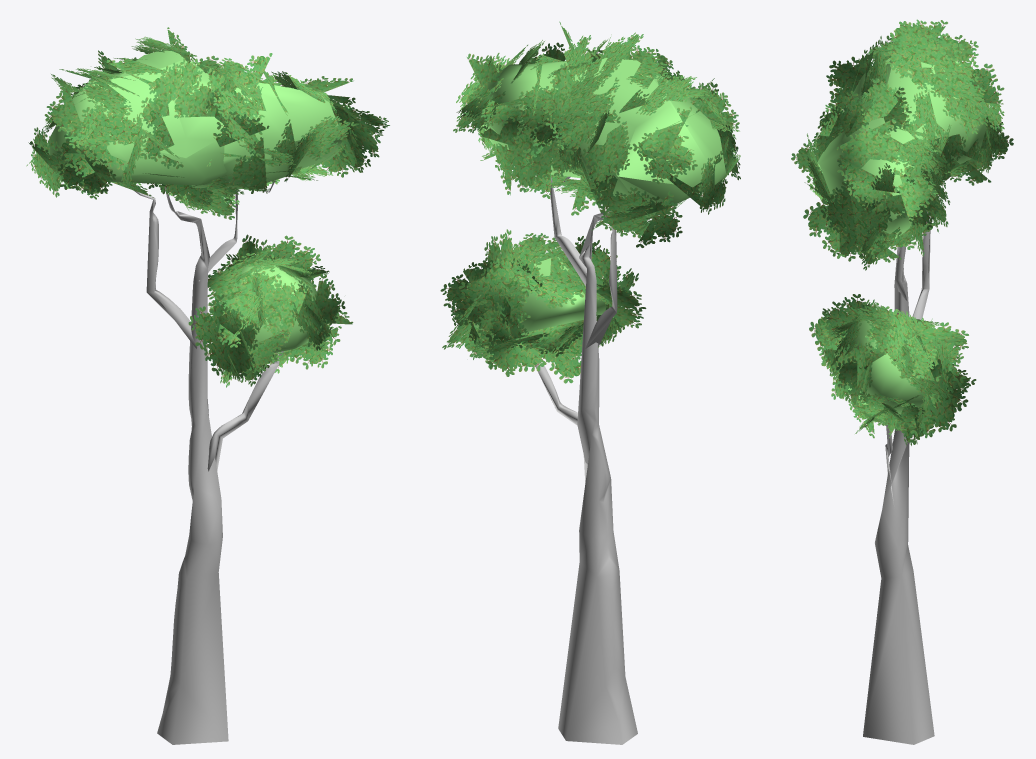
Rendered from SM_Navitree_A_low.fbx.
3 renders of one model, left to right at view 1: azimuth 30°, elevation 25°; view 2: azimuth 150°, elevation 25°; view 3: azimuth 270°, elevation 25°, orthographic. The views are drawn at different scales.
Parts seen in each view (by area): view 1: SM_Navitree_A_low; view 2: SM_Navitree_A_low; view 3: SM_Navitree_A_low.
Boxes of the visible parts, x1,y1,x2,y2 form: SM_Navitree_A_low: [26, 27, 389, 744]; SM_Navitree_A_low: [440, 21, 740, 744]; SM_Navitree_A_low: [791, 19, 1013, 744].
Size of the model in its own units: 1953 by 4087 by 1253.
